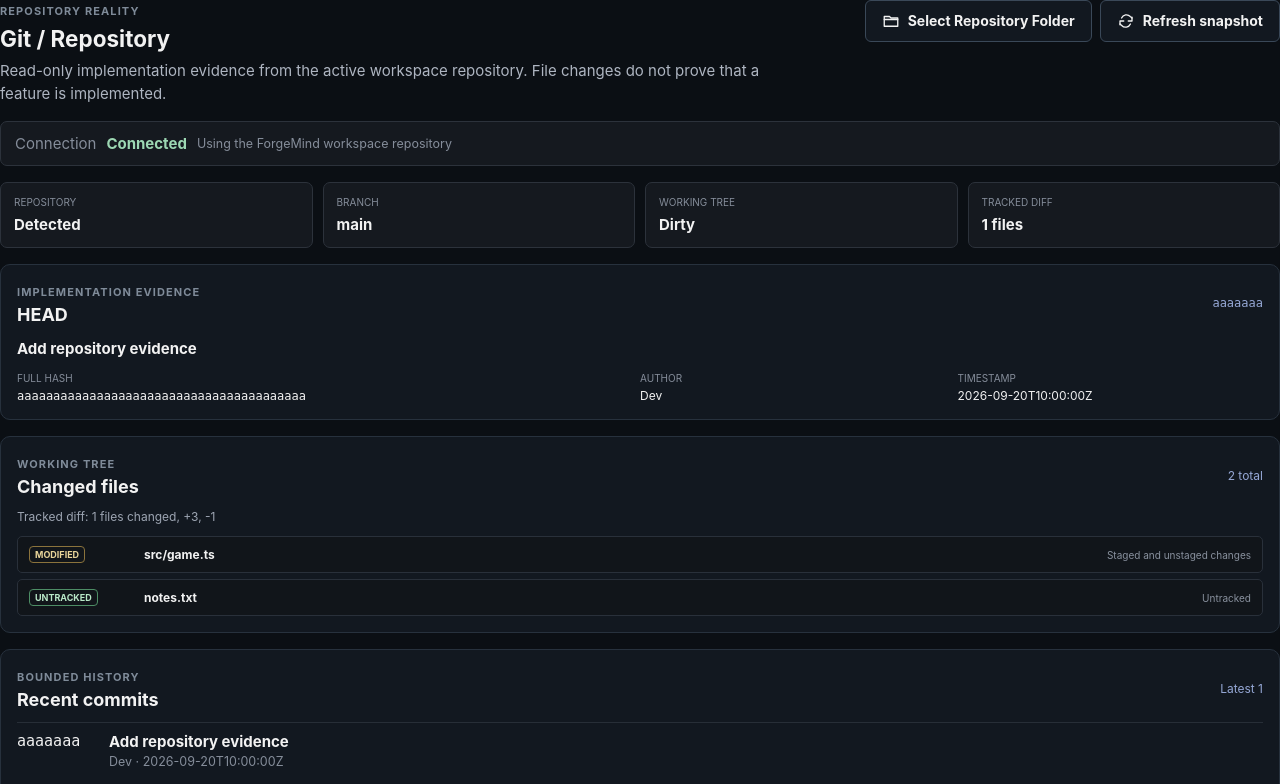
Scenario: Repository Reality › renders branch, HEAD, working tree, diff statistics, changed files, and bounded history
Expected: the text "main" is shown, [336,215,372,234]
Expected: the text "Add repository evidence" is shown 2 times, [17,339,197,358]; [109,732,289,751]
What coordinates should you click on to do the following:
click the text "src/game.ts"
I would click on:
 (179, 554)
Its box is [144,547,215,562].
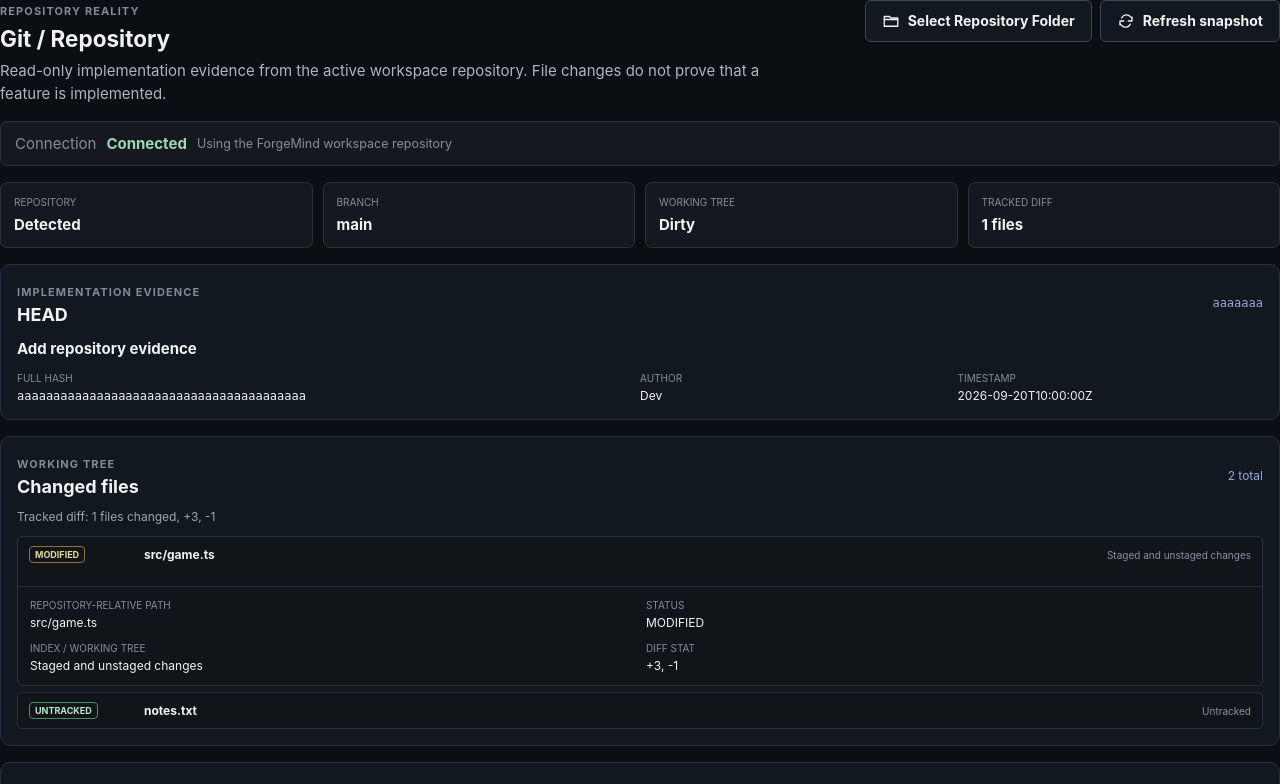
Expected: the text "Repository-relative path" is shown, [30,599,171,611]
Expected: the text "+3, -1" is shown, [646,658,678,673]
